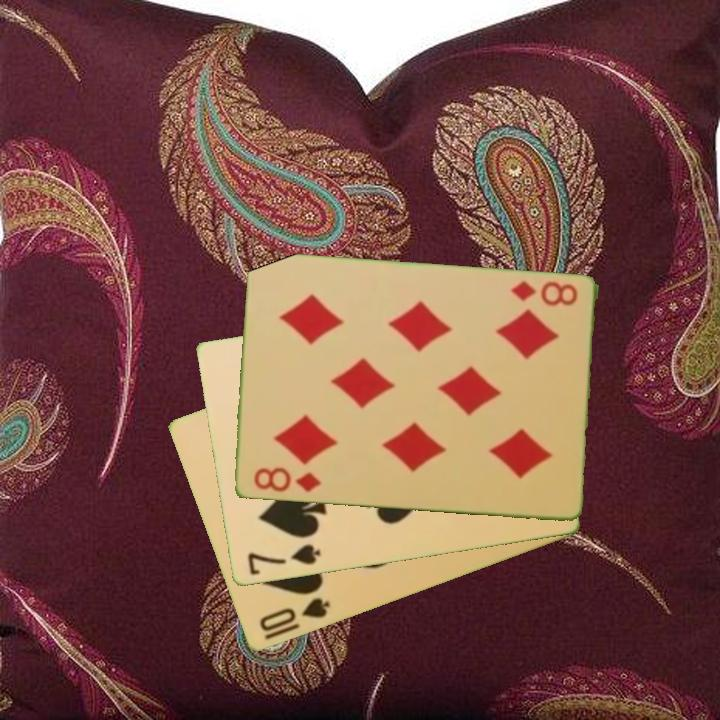10s: (256, 594, 333, 635)
7s: (243, 541, 323, 579)
8d: (507, 277, 580, 310), (250, 464, 324, 496)
